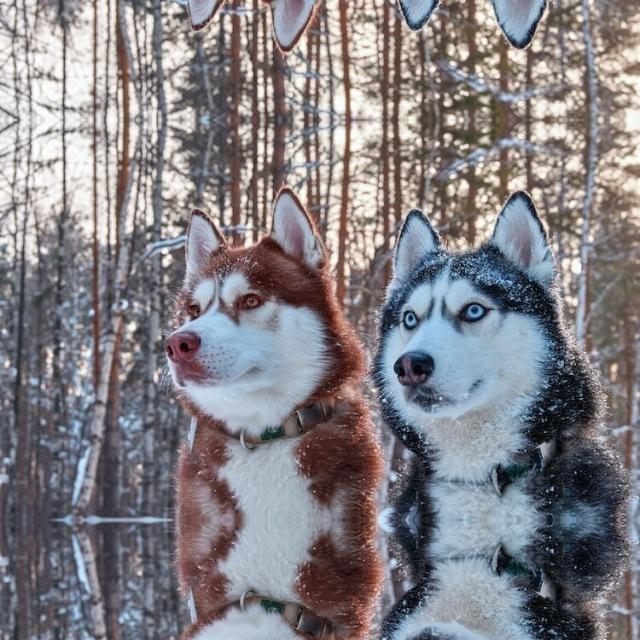dog: (376, 203, 640, 519), (148, 191, 378, 519), (376, 519, 639, 640), (147, 519, 378, 640), (147, 0, 378, 47), (376, 0, 639, 35)
